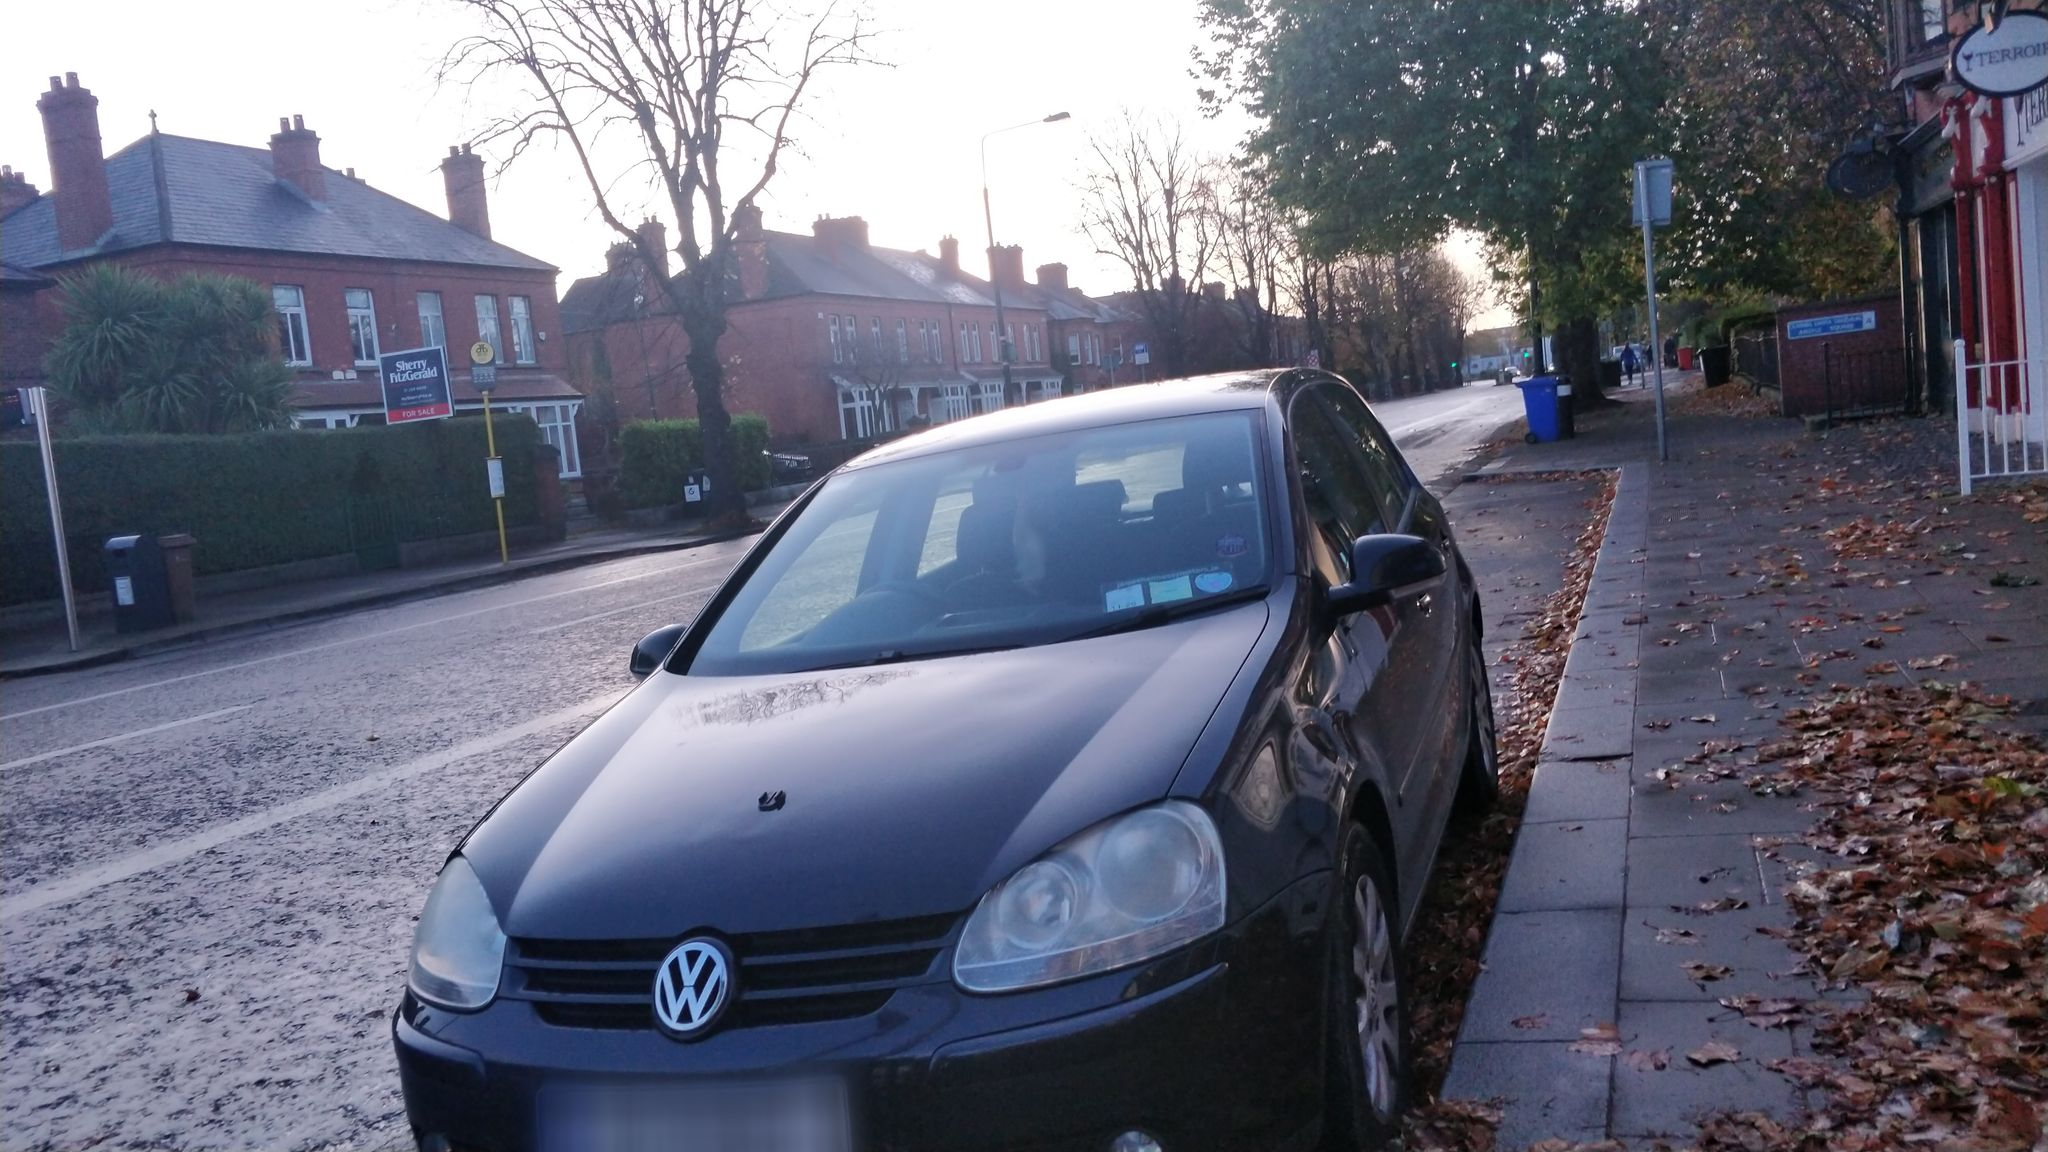property sign: (364, 345, 461, 433)
